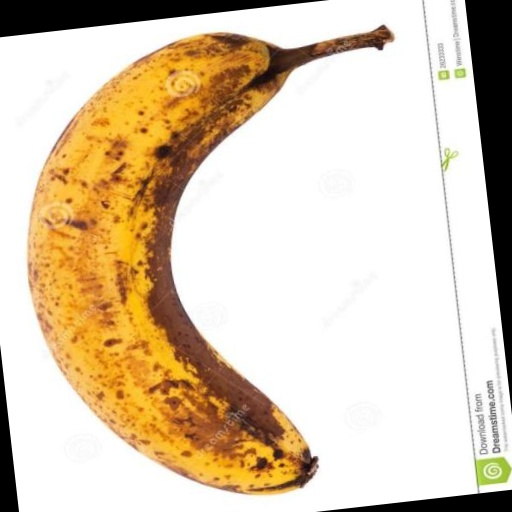fruit: (28, 26, 392, 494)
